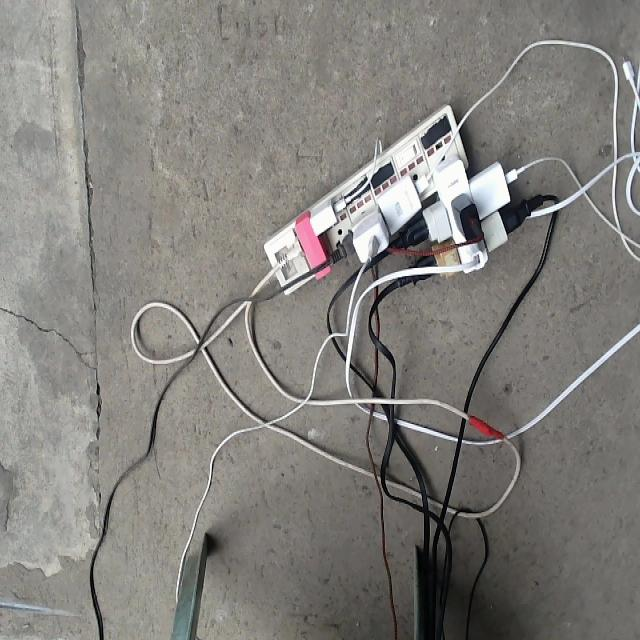-: (248, 105, 509, 292)
